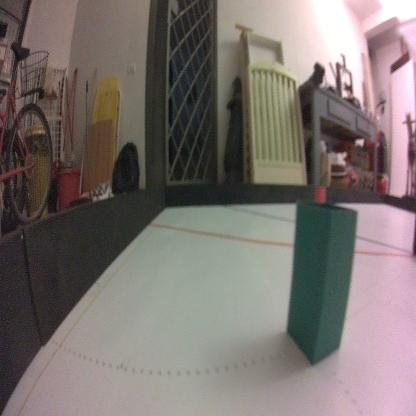green: (286, 197, 358, 368)
red: (315, 186, 326, 204)
